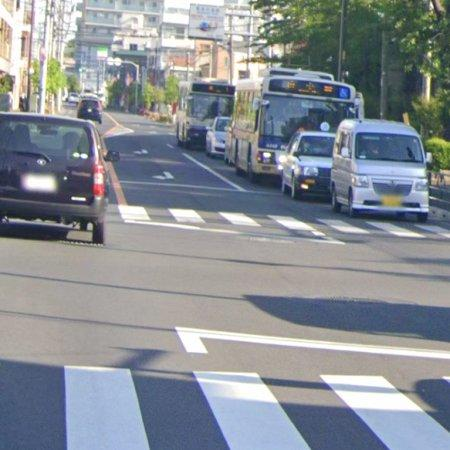crosswalks: (108, 204, 450, 241)
